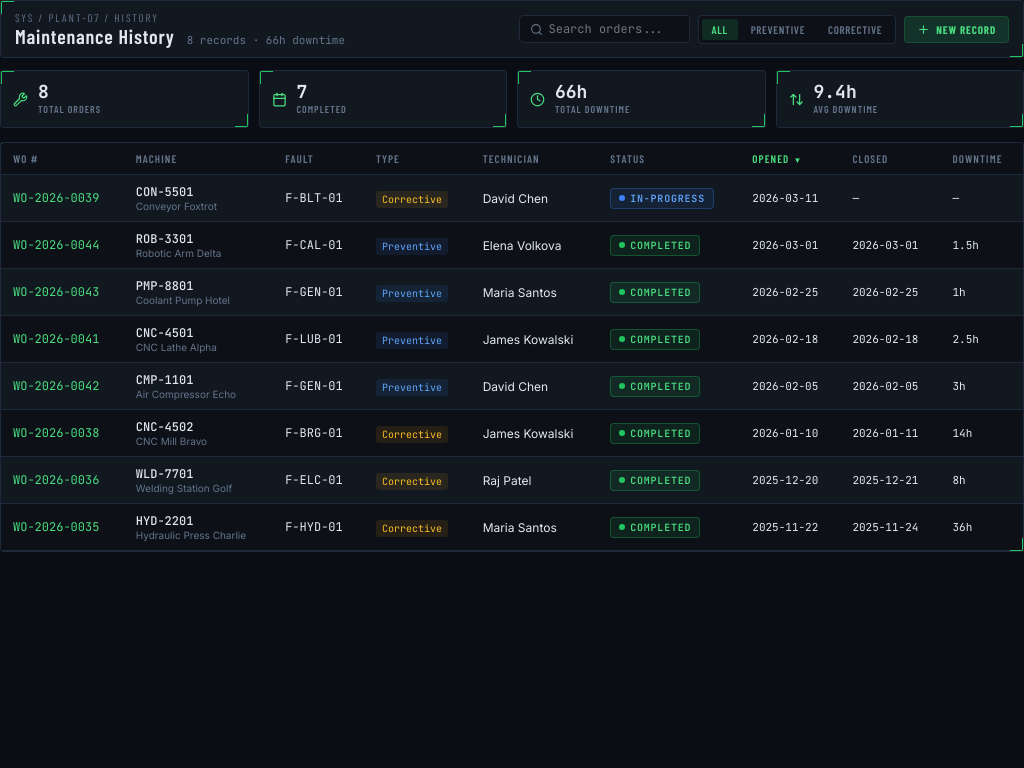
Test: HistoryLog › filters by search query
Type "Kowalski" into the field with placeholder "Search orders...".
click(614, 29); type("Kowalski")  # box 548,21 -> 678,37
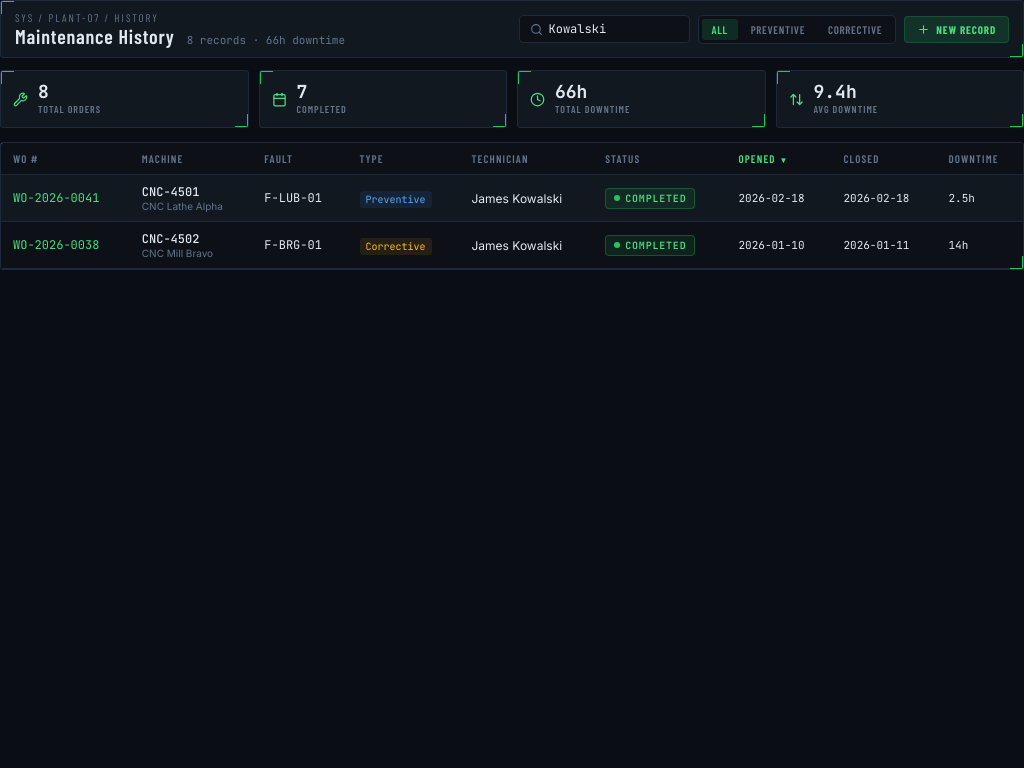
Expected: the text "WO-2026-0041" is shown, 13,190 -> 99,206
Now the text "WO-2026-0035" is gone
